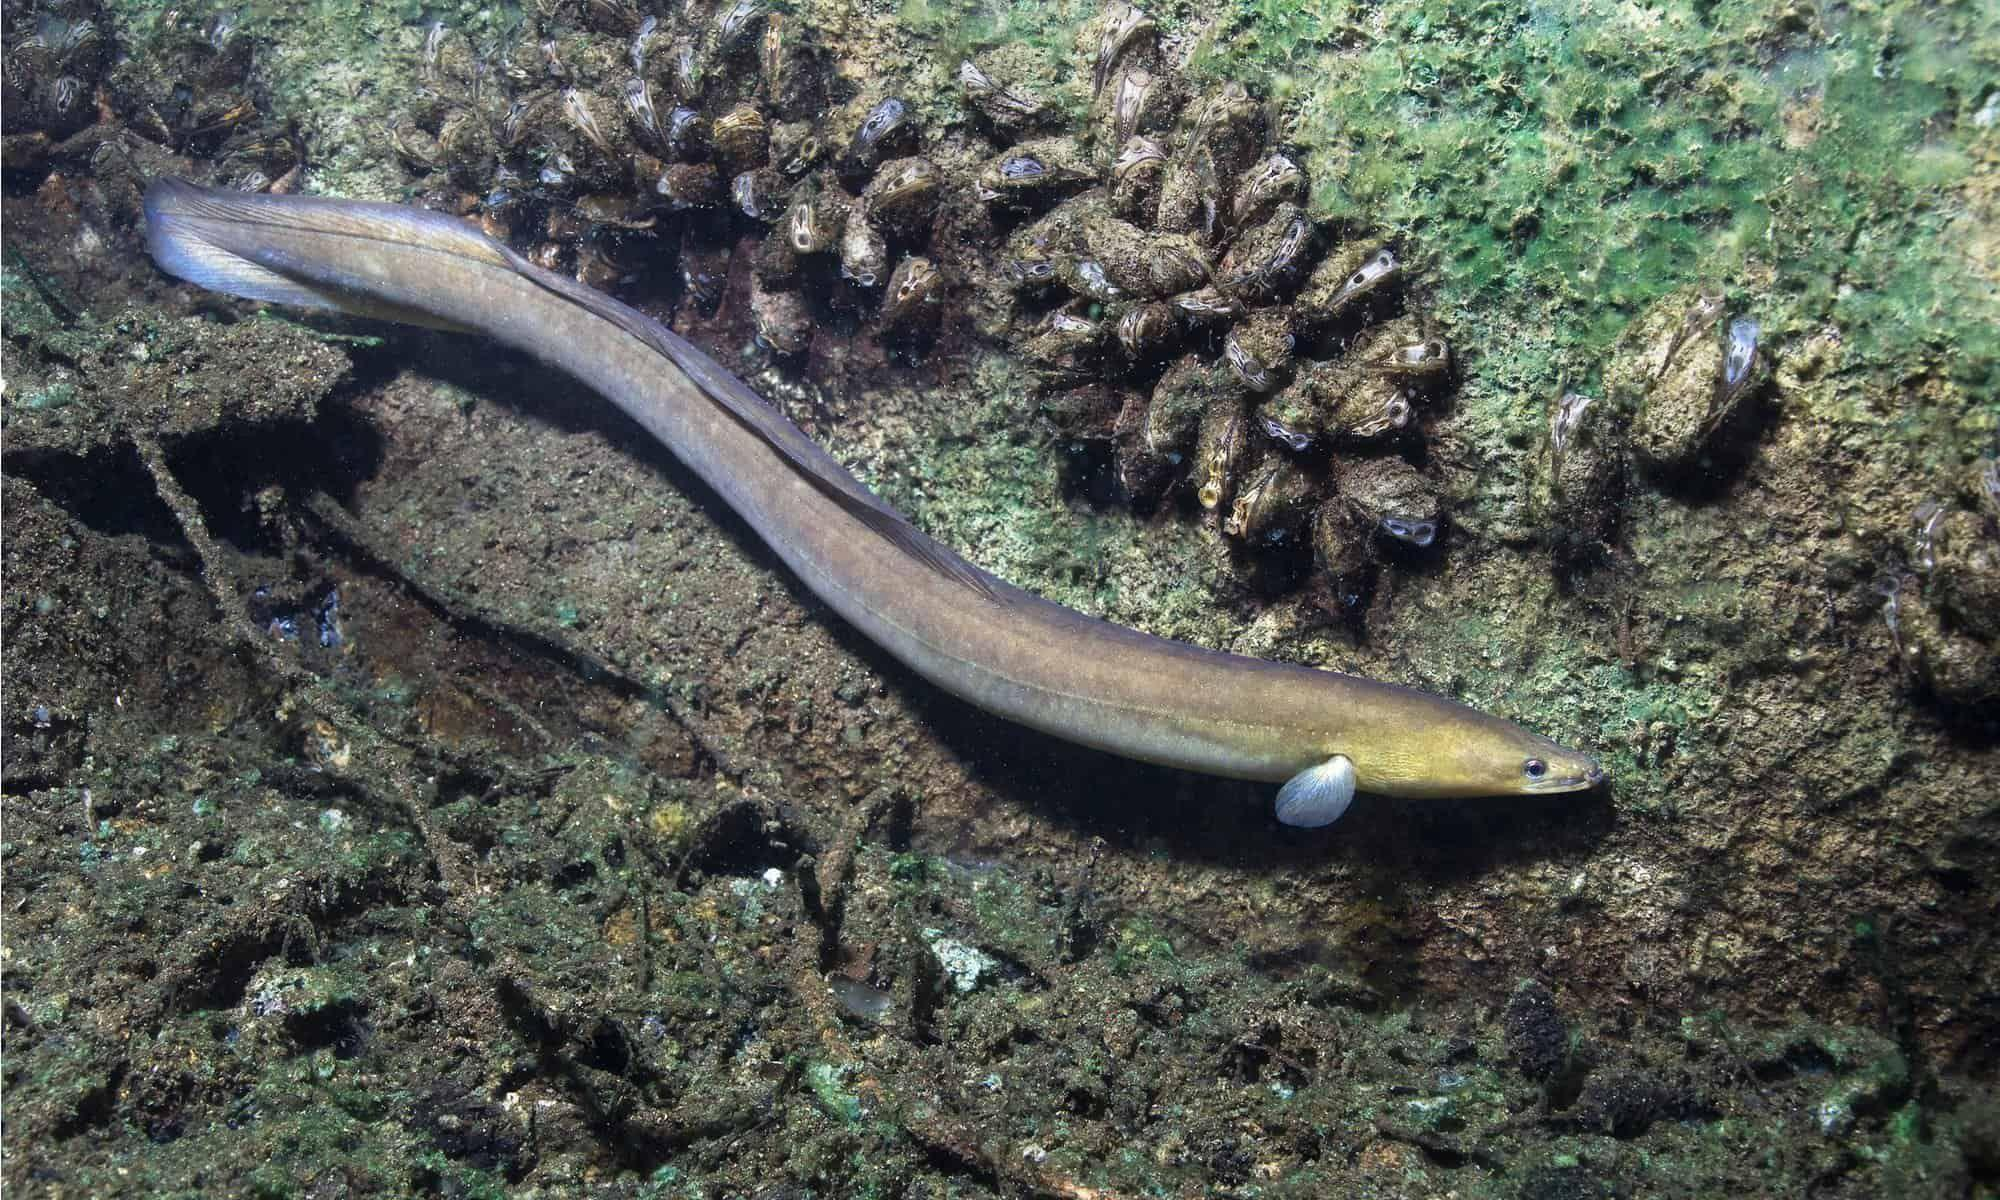Freshwater Eel: (141, 160, 1607, 837)
